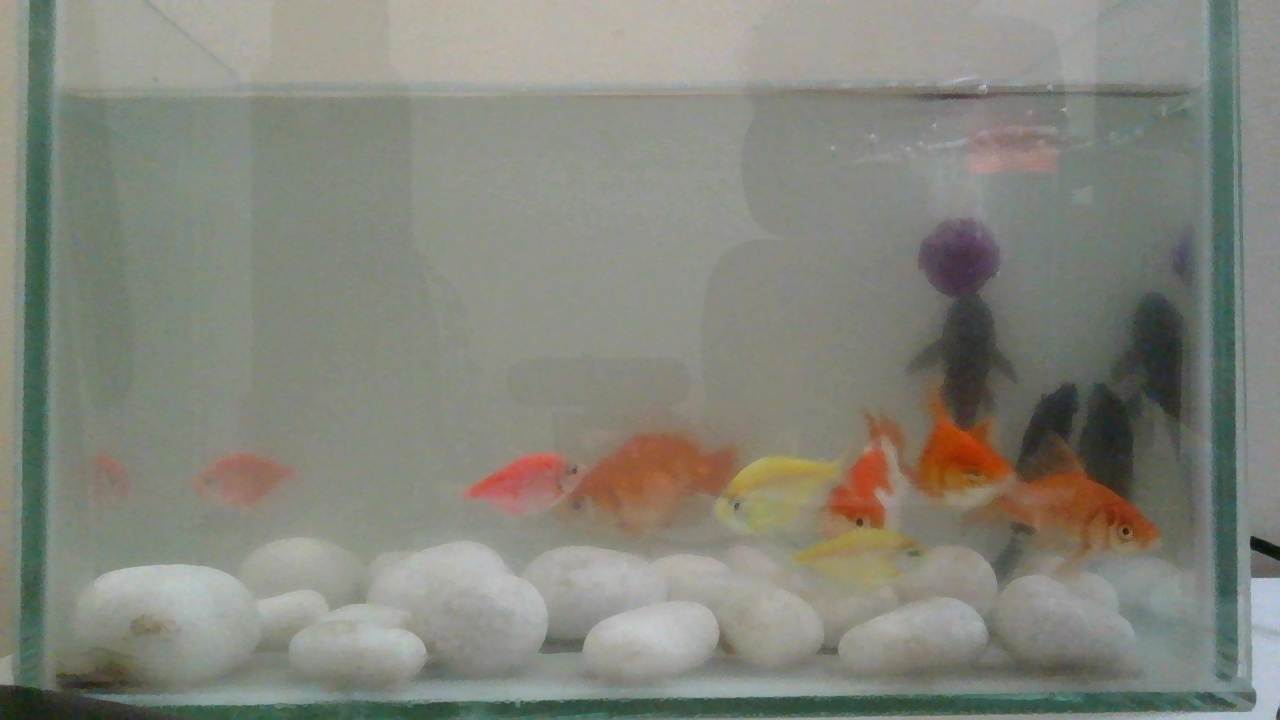fish: (964, 380, 1161, 583), (464, 448, 581, 520), (193, 448, 302, 517)
